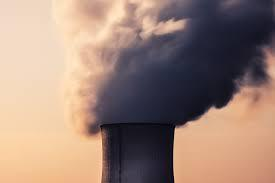smoke: (118, 56, 198, 127), (185, 7, 256, 50)
